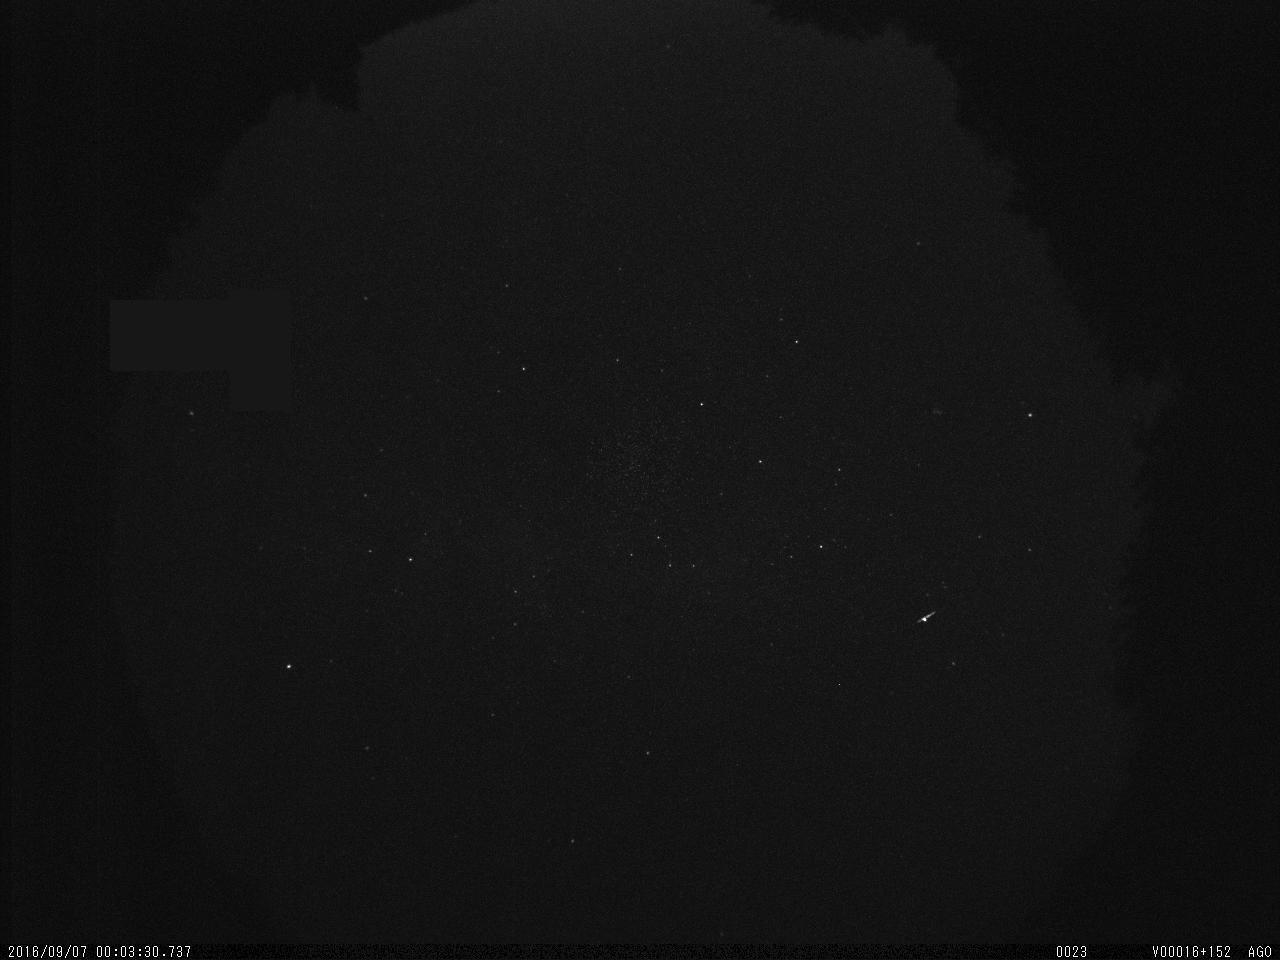meteor: (910, 607, 951, 629)
